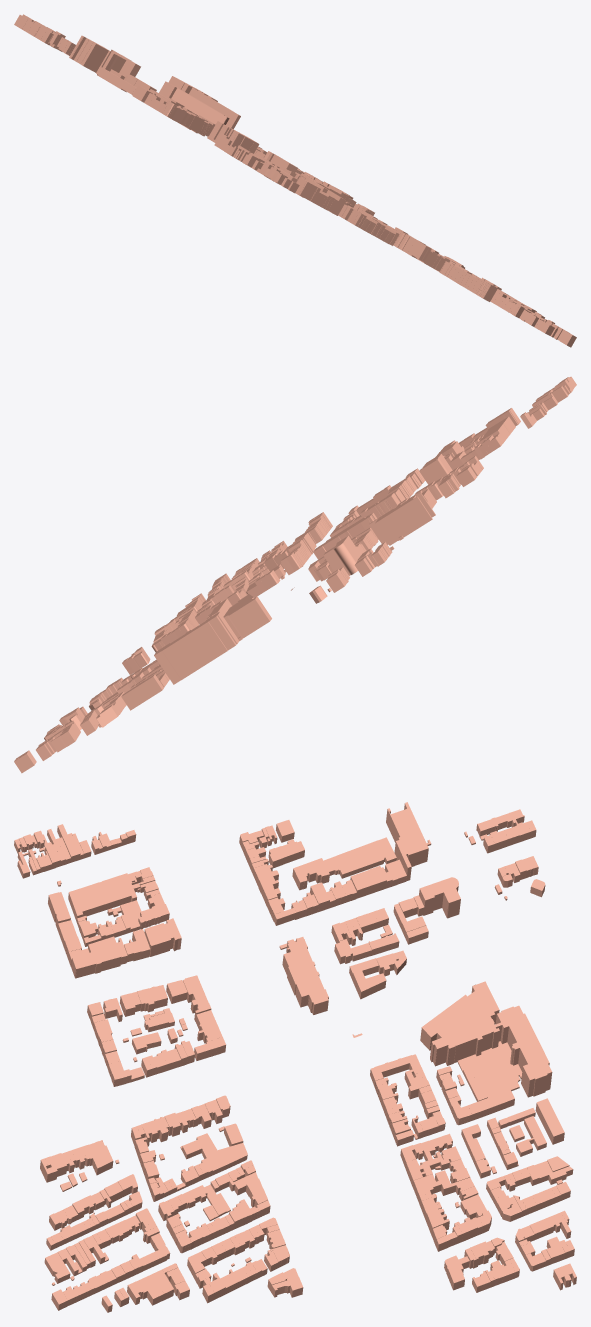
The picture shows the model from 3 angles, top to bottom: view 1: azimuth 30°, elevation 25°; view 2: azimuth 150°, elevation 25°; view 3: azimuth 270°, elevation 25°; orthographic projection. The views are drawn at different scales.
Bounding box in the file's own units: 545 × 410 × 646.
